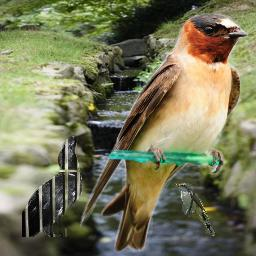Crow: (22, 136, 82, 237)
Cuckoo: (175, 183, 215, 236)
Swallow: (80, 13, 248, 253)
